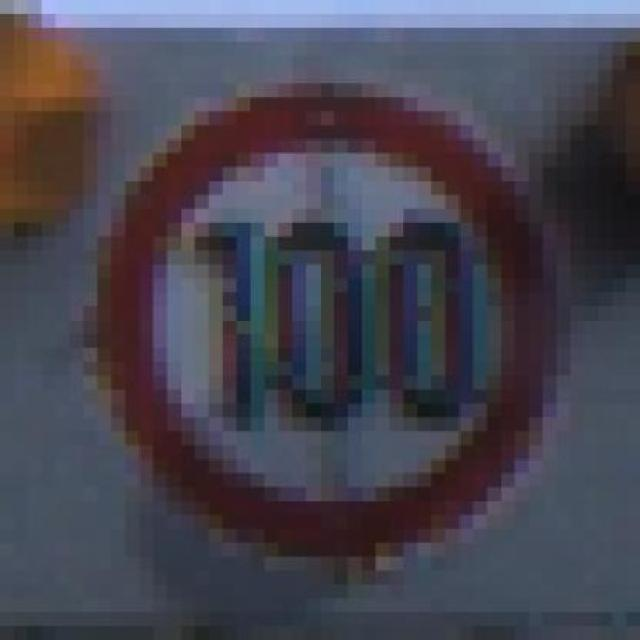forb_speed_over_100: (105, 94, 558, 549)
